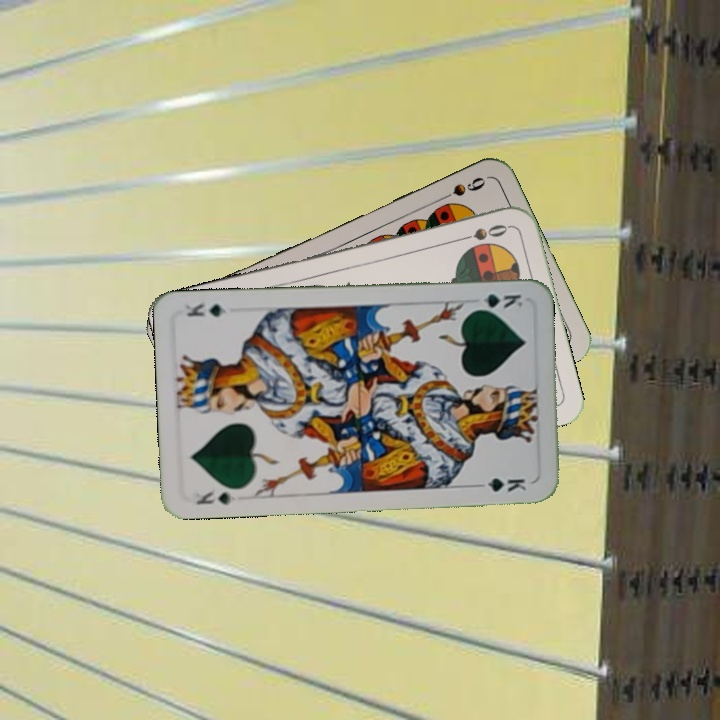GK: (468, 289, 525, 313), (192, 485, 239, 507)
S9: (433, 173, 489, 205)
SO: (453, 220, 512, 244)
